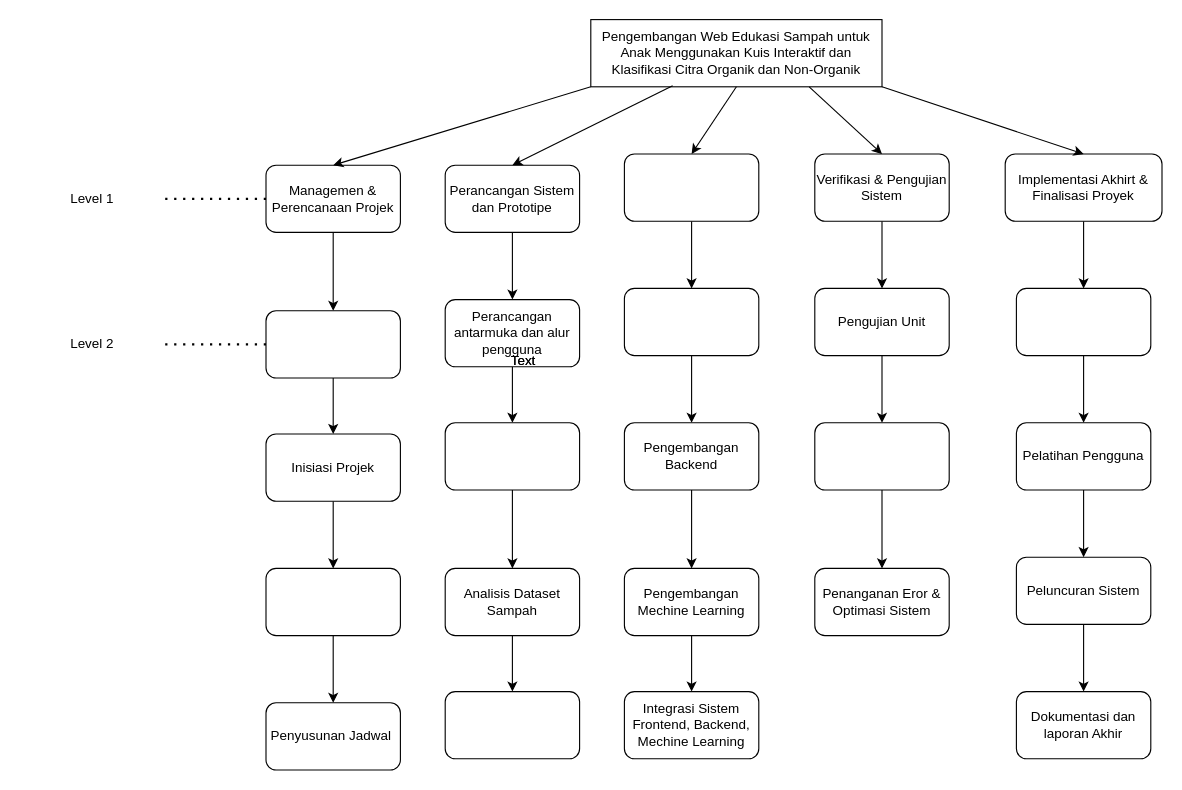
This 1182x790 diagram has some shape labels left out. Here are the shapes that lost their labels. From the top down, the centre of each, then its label:
At point (691, 187): "Implementasi & Pengembangan Sistem".
At point (691, 321): "Pengembangan Frontend".
At point (1083, 321): "Persiapan Rilis Sistem".
At point (332, 344): "Pembentukan Tim & Administrasi".
At point (512, 456): "Desain UI/UX".
At point (881, 456): "Uji Kelayakan Penggunaan".
At point (332, 601): "Analisis Kebutuhan Pengguna dan sistem".
At point (512, 724): "penyempurnaan prototipe awal".
